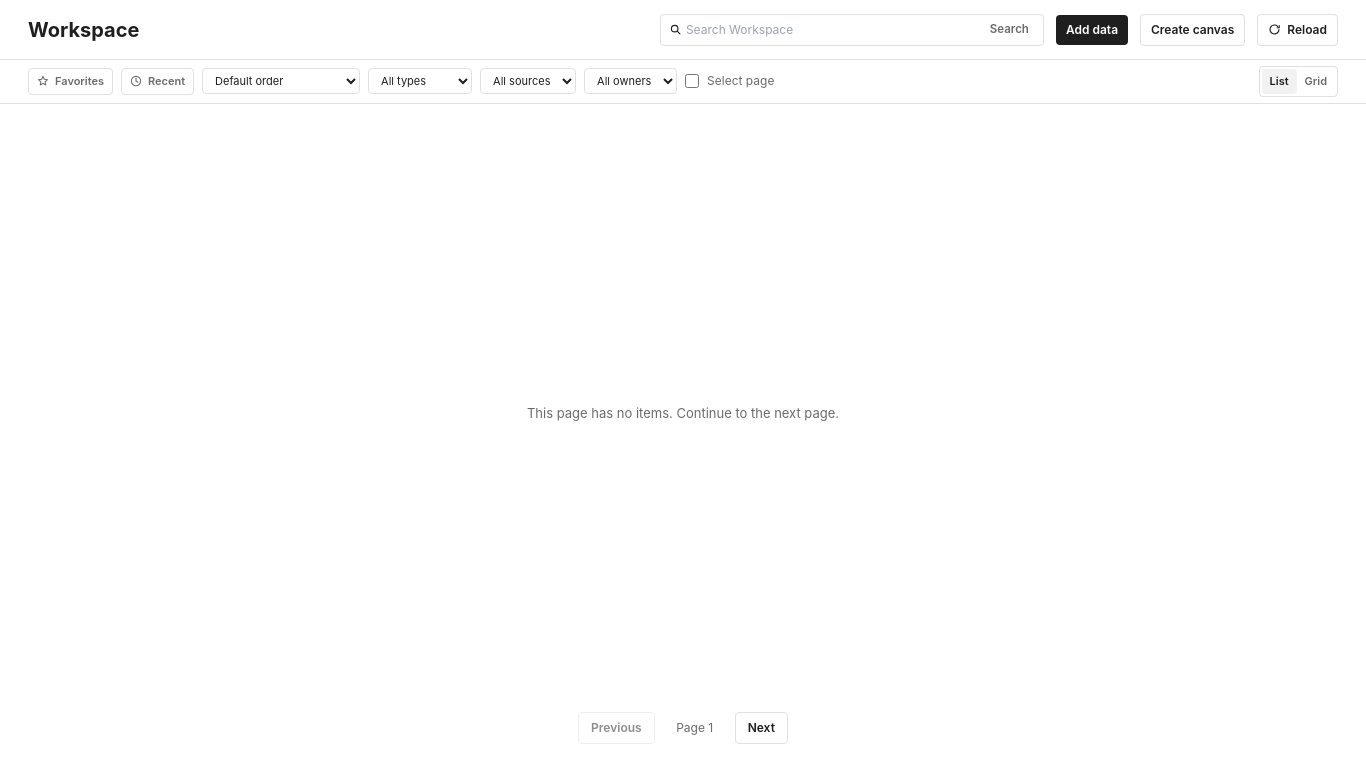
Test case: WorkspaceExplorer › continues an empty Workspace browse page without presenting it as a final empty location
Expected: the text "This page has no items. Continue to the next page." is shown, [527, 404, 839, 424]
Click the button with test id "workspace-next-page" at (761, 728), box [735, 712, 788, 744]
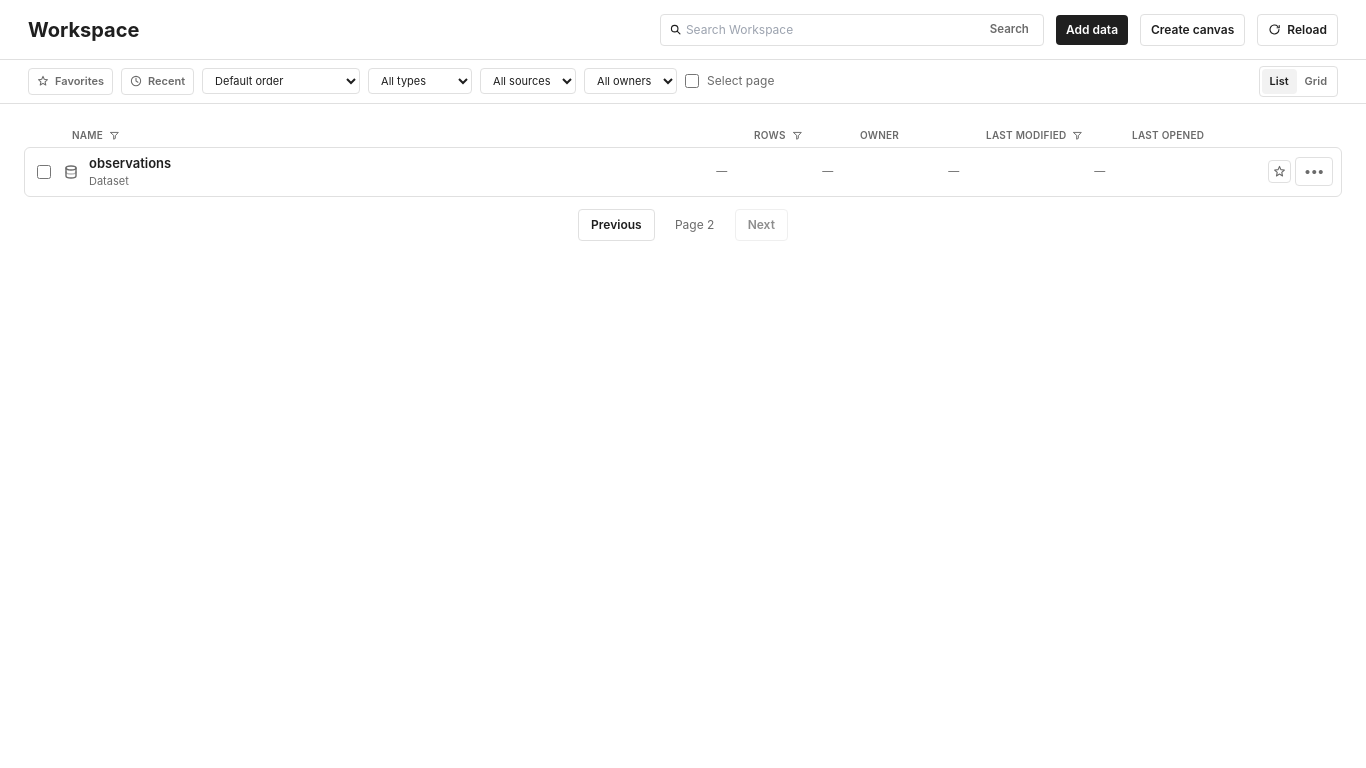
Expected: the text "observations" is shown, [89, 154, 171, 170]
